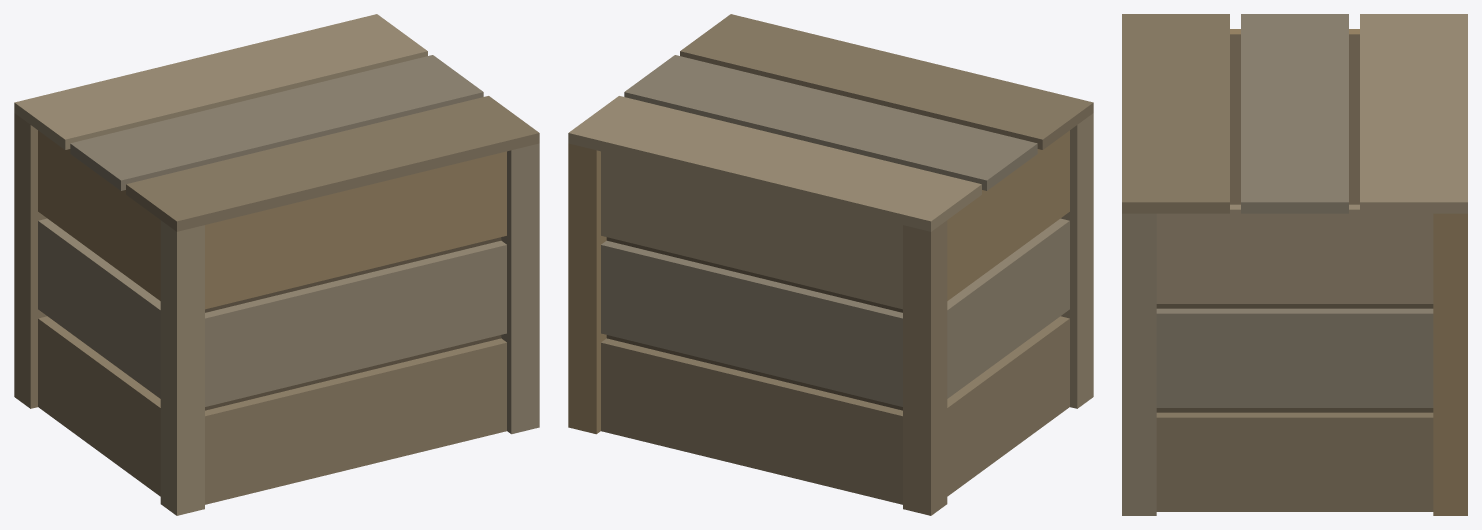
The model's file is small-crate.glb.
3 renders of one model, left to right at view 1: azimuth 30°, elevation 25°; view 2: azimuth 150°, elevation 25°; view 3: azimuth 270°, elevation 25°, orthographic. The views are drawn at different scales.
Visible parts, largest first — view 1: small-crate; view 2: small-crate; view 3: small-crate.
Boxes of the visible parts, x1,y1,x2,y2 form: small-crate: [14, 14, 539, 515]; small-crate: [568, 14, 1093, 515]; small-crate: [1122, 14, 1467, 515].
Bounding box in the file's own units: 0.58 × 0.45 × 0.45.
